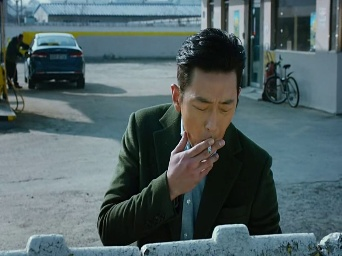smoke: (208, 137, 212, 154)
